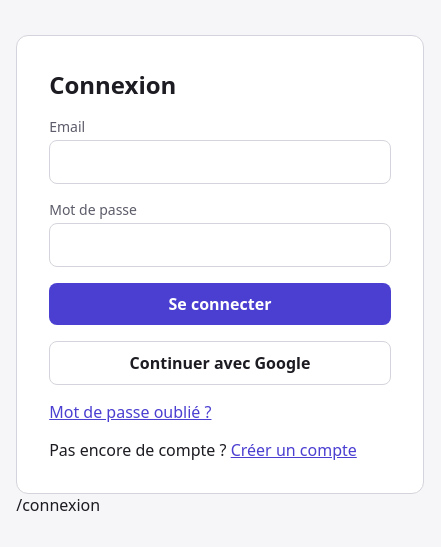
Scenario: Connexion › affiche un message qui ne révèle pas si le compte existe
Type "inconnu@exemple.fr" into the field labelled "Email" at (220, 162), box [49, 140, 391, 184]
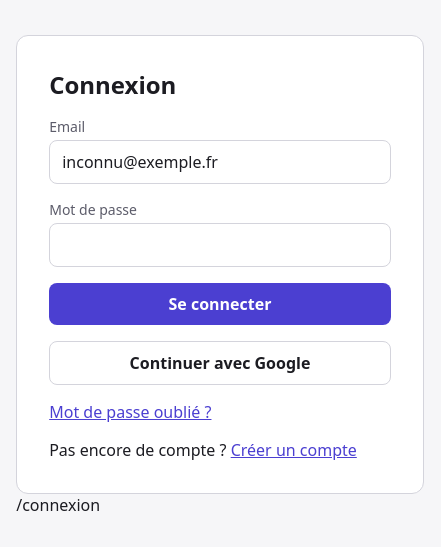
Type "motdepasse" into the password field labelled "Mot de passe" at (220, 244), box [49, 222, 391, 266]
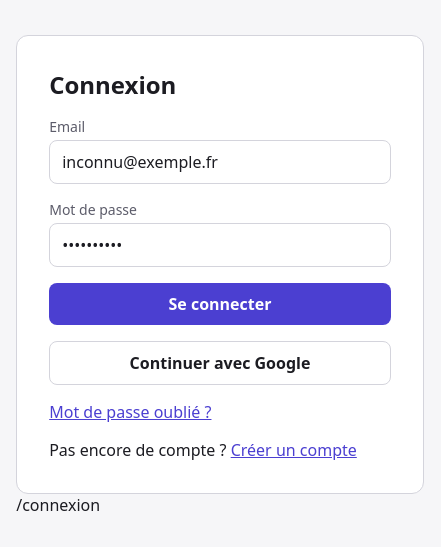
Click the button "Se connecter" at (220, 304), box [49, 282, 391, 324]
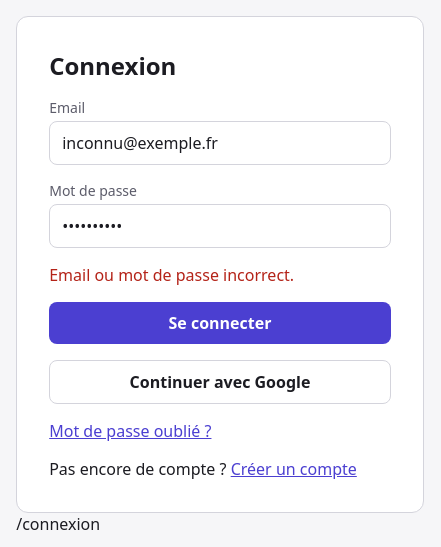
Expected: the message reads "Email ou mot de passe incorrect.", [49, 264, 294, 286]
